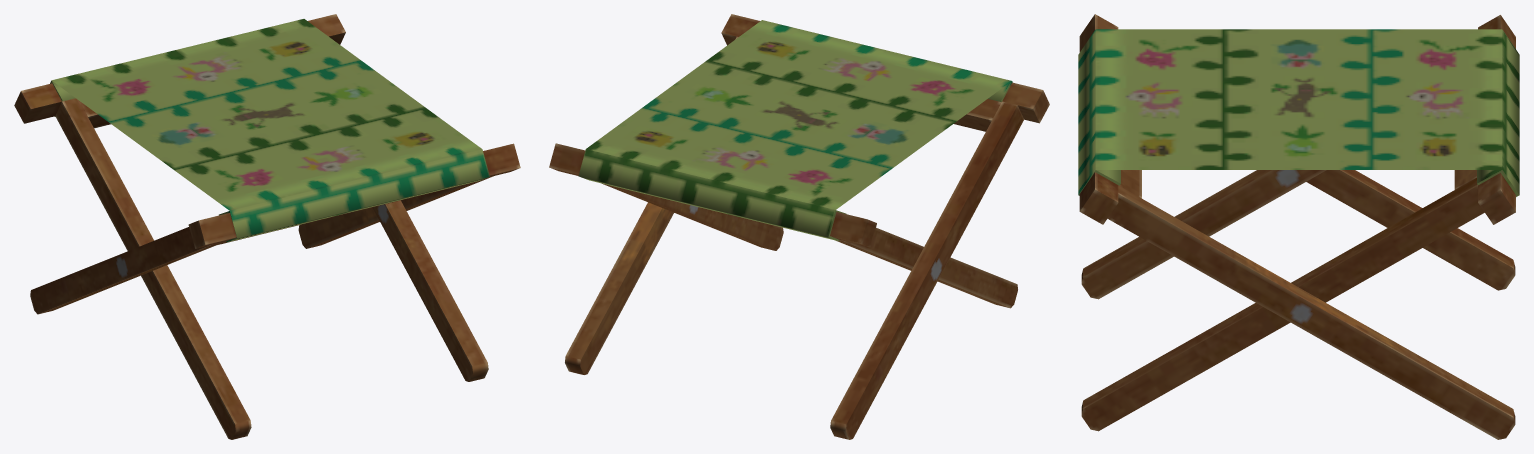
The model's file is pi_chair01_dlc1_02_02.gltf.
3 views of the same model, side by side, from view 1: azimuth 30°, elevation 25°; view 2: azimuth 150°, elevation 25°; view 3: azimuth 270°, elevation 25° (orthographic). The views are drawn at different scales.
Parts seen in each view (by area): view 1: pi_chair01_dlc1_02_02_mesh_shape:pi_chair01_dlc1_04_main; view 2: pi_chair01_dlc1_02_02_mesh_shape:pi_chair01_dlc1_04_main; view 3: pi_chair01_dlc1_02_02_mesh_shape:pi_chair01_dlc1_04_main.
Part boxes in pixels (left/top/right/bottom): pi_chair01_dlc1_02_02_mesh_shape:pi_chair01_dlc1_04_main: left=14, top=14, right=520, bottom=439; pi_chair01_dlc1_02_02_mesh_shape:pi_chair01_dlc1_04_main: left=549, top=14, right=1049, bottom=439; pi_chair01_dlc1_02_02_mesh_shape:pi_chair01_dlc1_04_main: left=1078, top=14, right=1519, bottom=439.
Size of what is drawn, in the model's own units: 0.4989 by 0.3463 by 0.53.
1 material, 1 textured.
